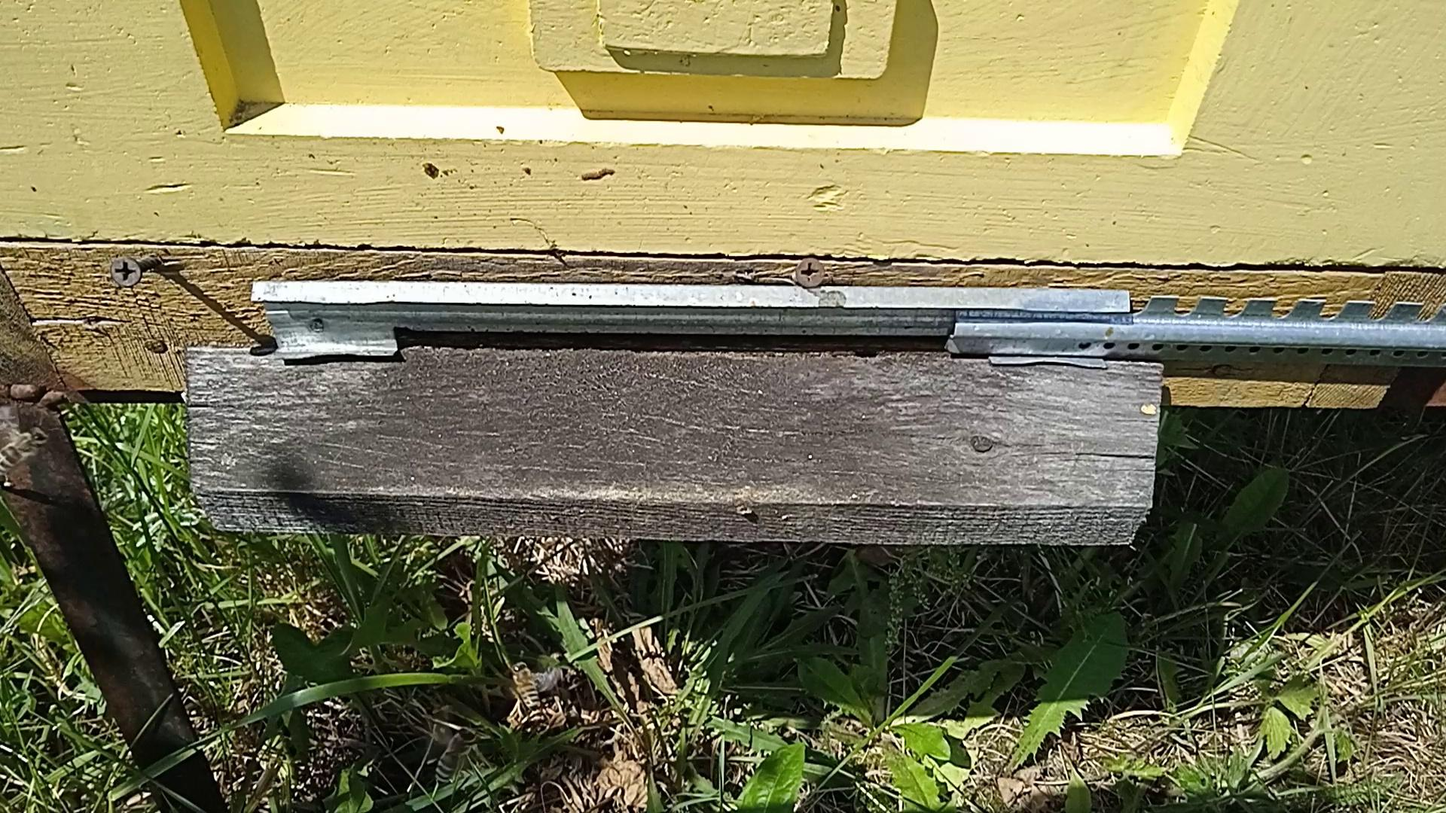worker-bee: (434, 729, 477, 785), (0, 427, 52, 473), (508, 660, 540, 710)
